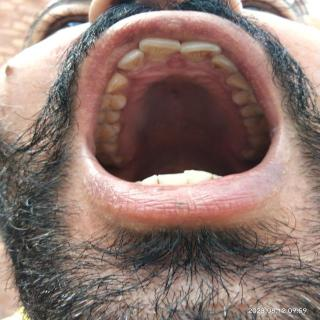UL1BC_healthy: (232, 91, 258, 105)
UL2BC_sdecay: (242, 106, 267, 128)
ULCI_sdecay: (181, 42, 222, 60)
ULC_healthy: (226, 74, 251, 91)
ULLI_sdecay: (212, 55, 239, 74)
UR1BC_mdecay: (100, 94, 127, 111)
UR1M_mdecay: (94, 123, 121, 145)
UR2BC_mdecay: (97, 112, 121, 124)
URCI_healthy: (139, 37, 181, 60)
URC_healthy: (106, 72, 129, 93)
URLI_mdecay: (118, 50, 144, 70)
